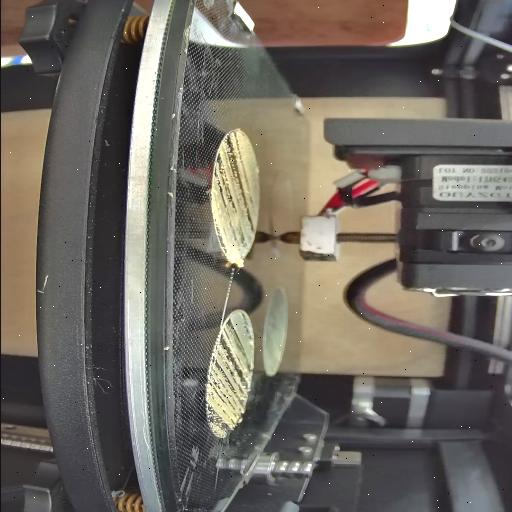under_extrusion: (209, 308, 255, 436), (214, 130, 254, 252)
